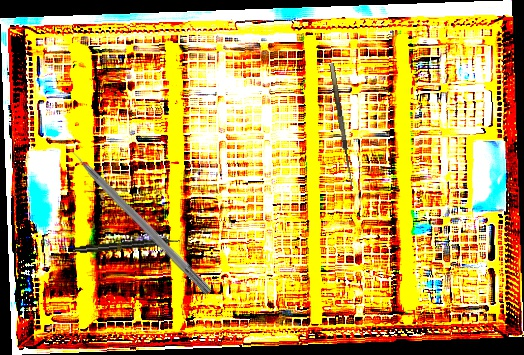Handpiece: (72, 236, 181, 255)
Hook Surgical: (329, 61, 361, 190)
Pusher: (57, 134, 214, 296)
